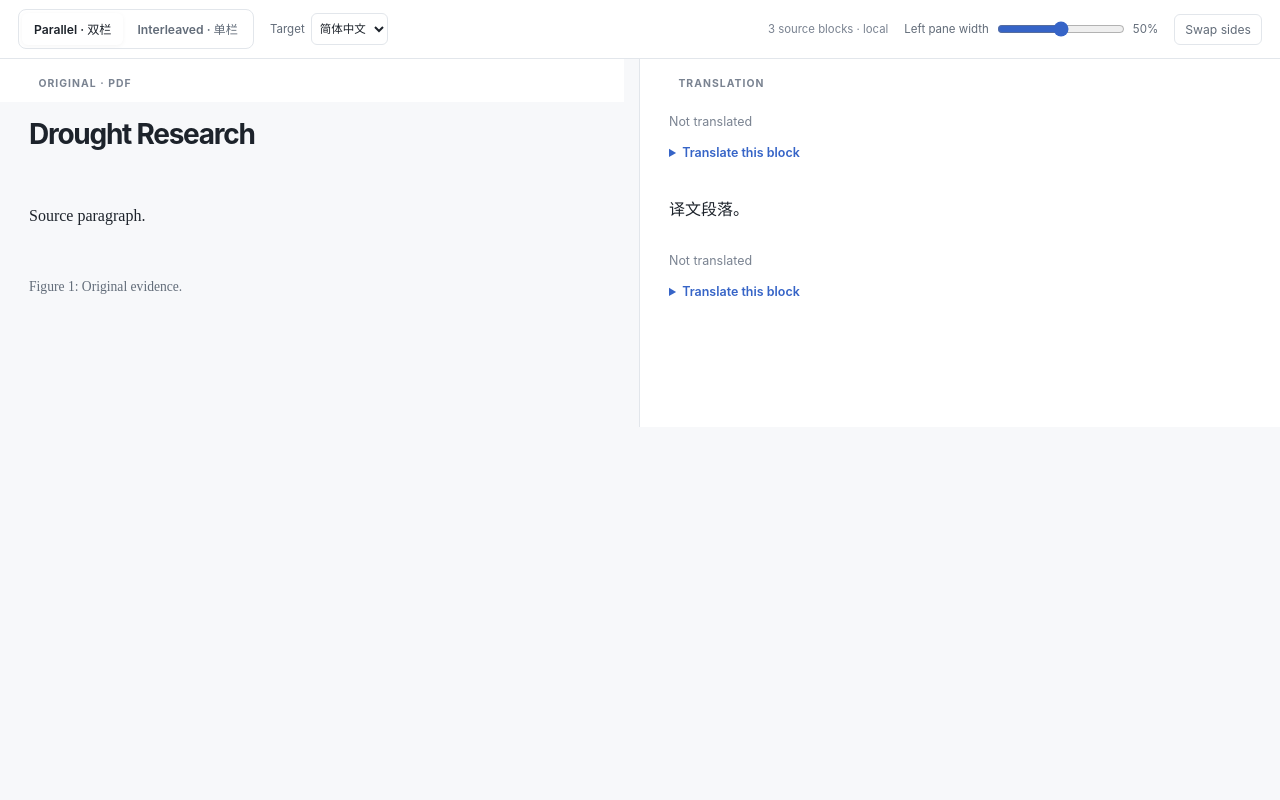
it: renders two semantic article streams and a single alternating stream without requesting AI on switch
Expected: the text "Source paragraph." is shown, [29,207,145,224]
Expected: the text "译文段落。" is shown, [669,201,749,218]
Click the button "Interleaved · 单栏" at (188, 29), box [126,13,250,45]
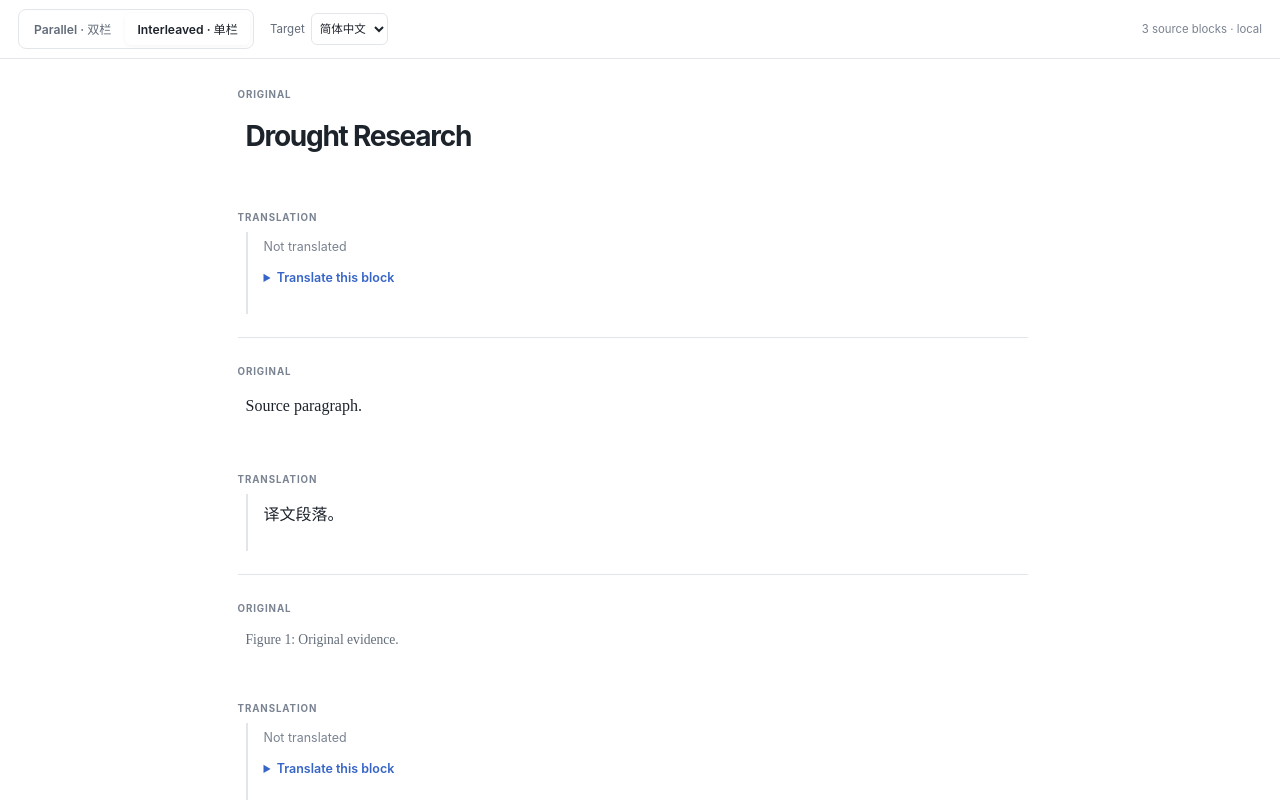
Click the button "Parallel · 双栏" at (73, 29), box [22,13,124,45]
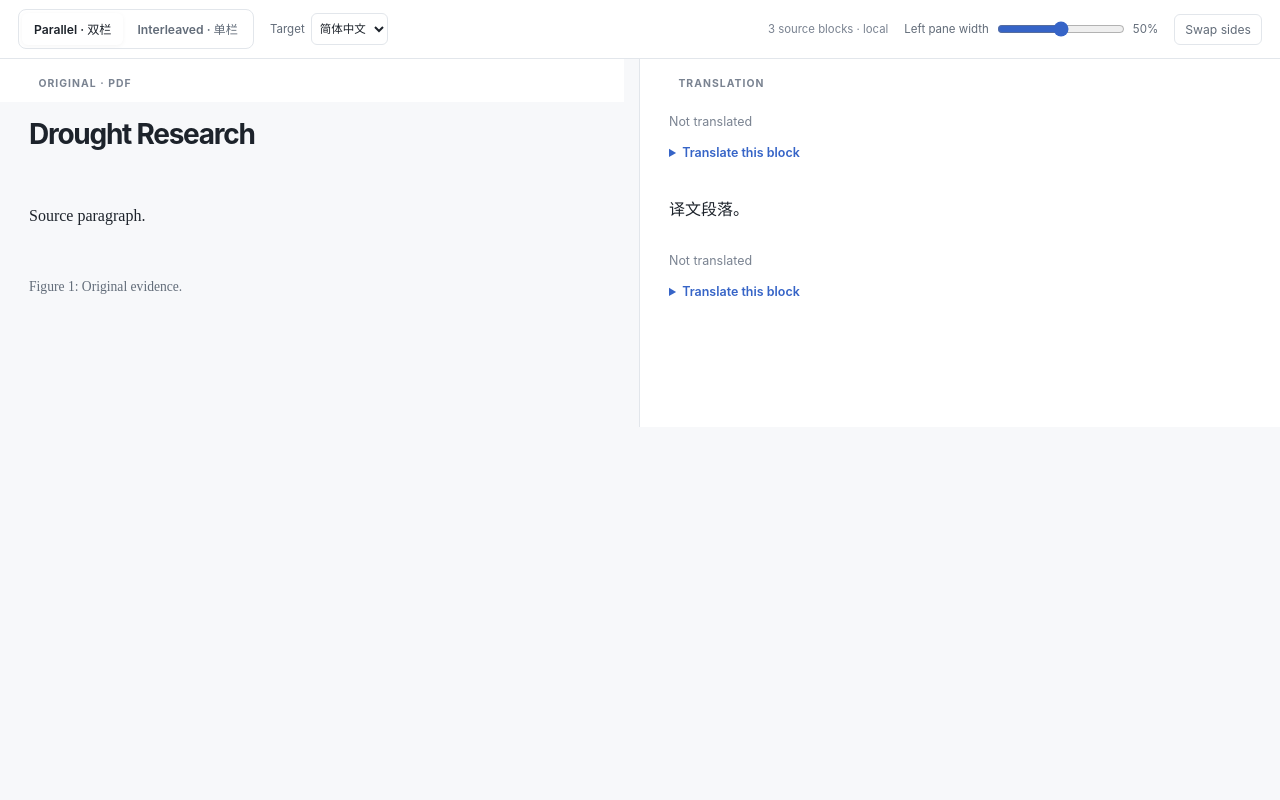
Result: the element named "Original article" is shown at [0,59,640,427]
